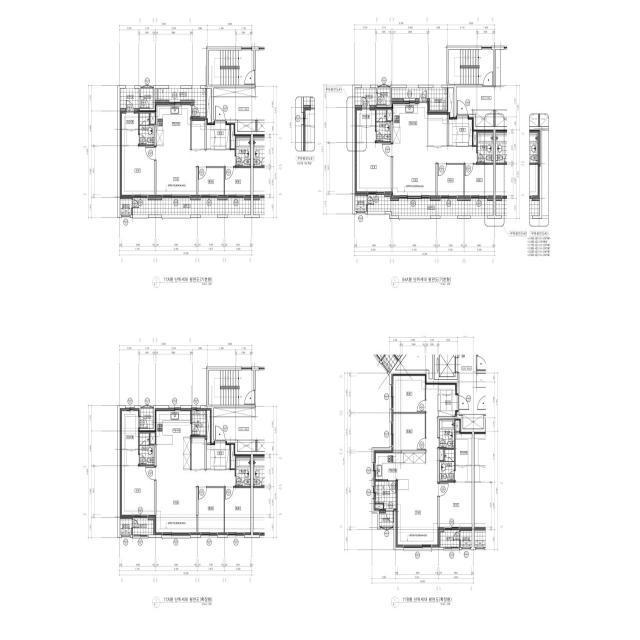space_balconi: (368, 195, 493, 215), (133, 198, 251, 215), (155, 89, 206, 117), (392, 88, 447, 111), (376, 481, 396, 509), (120, 88, 139, 111), (355, 88, 376, 108), (133, 518, 153, 535), (192, 411, 206, 435), (440, 530, 459, 547)
space_bedroom: (355, 143, 391, 194), (120, 146, 154, 197), (122, 466, 154, 515), (439, 483, 472, 530), (393, 376, 425, 412), (393, 414, 425, 450), (198, 488, 224, 532), (225, 488, 251, 532), (465, 165, 493, 198), (438, 165, 464, 198), (198, 168, 224, 197), (225, 168, 251, 197)
space_dressroom: (122, 411, 138, 466), (455, 432, 472, 481), (355, 108, 375, 143), (120, 111, 138, 145)
space_elevator: (434, 354, 457, 379)
space_elevator_hall: (456, 87, 496, 114), (459, 354, 476, 414), (214, 97, 256, 120), (214, 417, 255, 440)
space_front: (449, 115, 472, 147), (207, 121, 230, 150), (214, 441, 230, 470), (438, 393, 458, 416)
space_kitchen: (156, 411, 191, 470), (374, 446, 426, 480), (156, 103, 190, 150), (393, 101, 427, 144)
space_living_room: (396, 384, 439, 547), (156, 470, 235, 533), (393, 144, 476, 198), (156, 150, 235, 197)
space_other: (428, 112, 447, 145), (190, 118, 205, 150), (192, 437, 205, 469), (459, 415, 486, 429), (214, 408, 255, 417), (214, 88, 255, 97), (473, 110, 494, 126), (140, 409, 153, 428), (379, 510, 394, 526), (141, 88, 153, 108), (378, 88, 390, 105), (237, 440, 255, 451), (237, 120, 255, 131), (439, 383, 457, 393), (448, 88, 454, 117), (207, 445, 214, 469), (207, 88, 211, 123), (207, 410, 210, 443), (231, 445, 235, 468), (231, 125, 235, 148), (455, 419, 461, 431), (473, 131, 477, 145), (150, 433, 155, 444), (150, 113, 155, 124), (374, 504, 383, 510), (387, 110, 392, 120), (440, 449, 443, 460)
space_outdoor_room: (120, 519, 131, 535), (461, 531, 472, 547), (120, 199, 131, 215), (355, 195, 366, 211)
space_staircase: (209, 370, 254, 405), (209, 50, 253, 85), (449, 49, 493, 84)
space_toilet: (139, 433, 154, 465), (139, 113, 154, 145), (376, 110, 391, 141), (478, 133, 493, 163), (440, 449, 454, 481), (236, 457, 251, 486), (236, 137, 251, 166), (440, 419, 454, 448)
